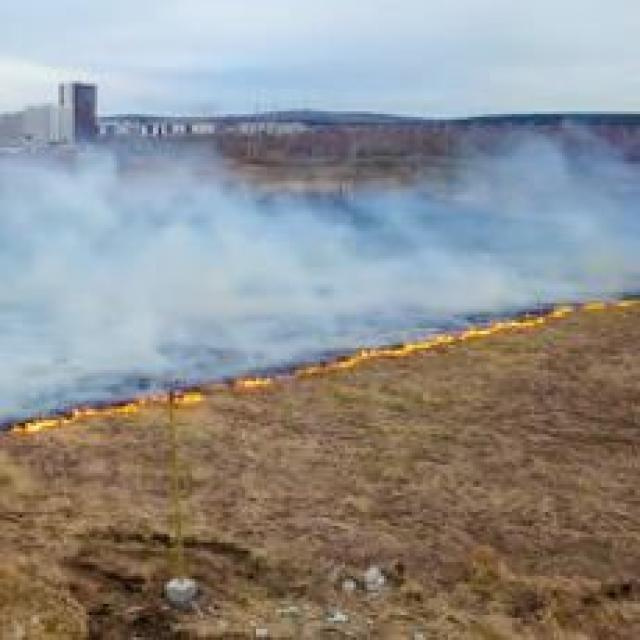Smoke: (0, 120, 640, 295), (0, 297, 522, 400)
